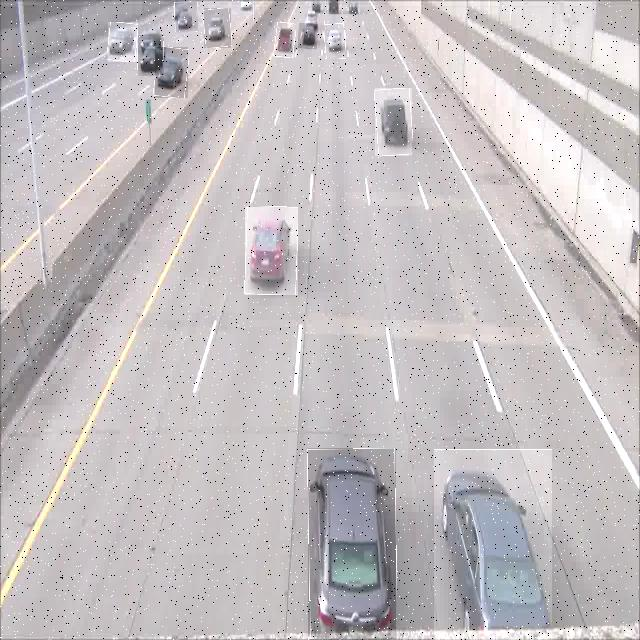Car: (434, 449, 552, 640), (308, 448, 396, 640), (245, 207, 298, 295), (375, 88, 412, 156), (155, 47, 188, 98), (108, 22, 138, 62), (138, 34, 164, 76), (204, 8, 231, 48), (324, 24, 346, 59), (274, 22, 295, 58), (175, 2, 198, 32), (298, 23, 318, 49)
